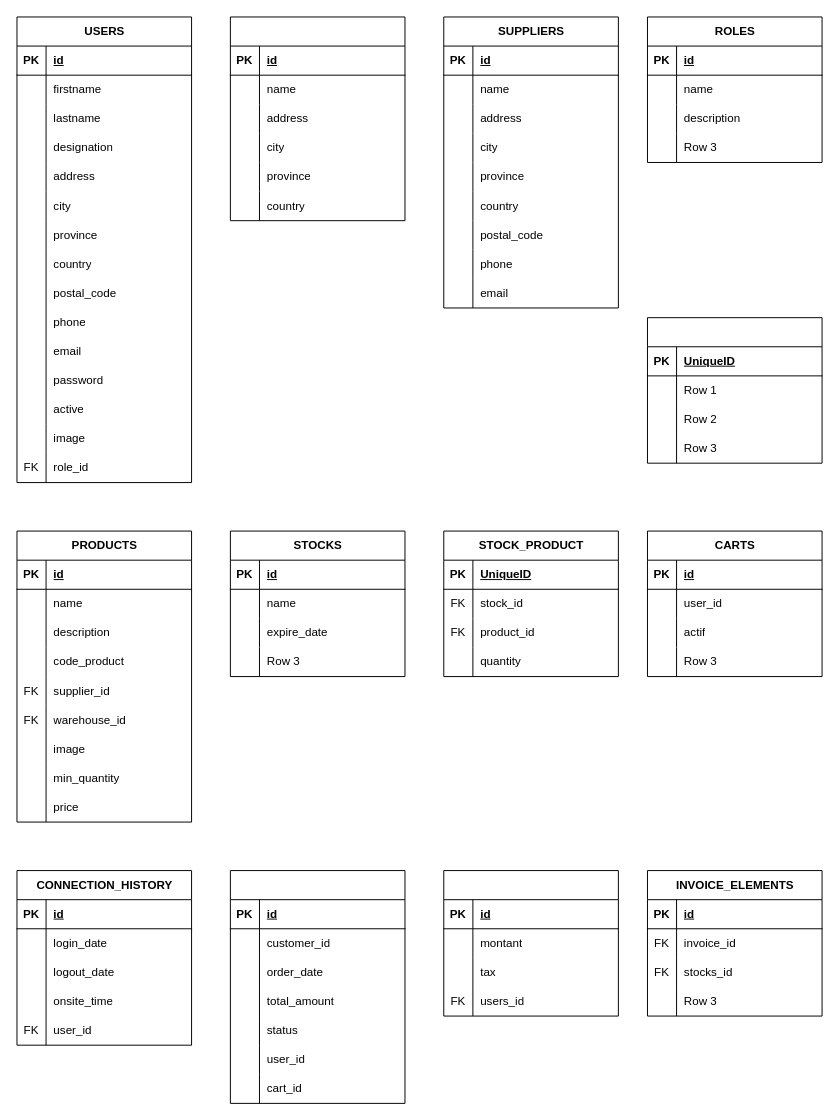
This 839x1120 diagram has some shape labels left out. Here are the shapes that lost their labels. From the top down, the box of each, then its label:
(229, 16, 405, 221): WAREHOUSES
(647, 317, 822, 463): CART_PRODUCT
(443, 870, 618, 1016): INVOICES
(229, 870, 405, 1103): ORDERS
